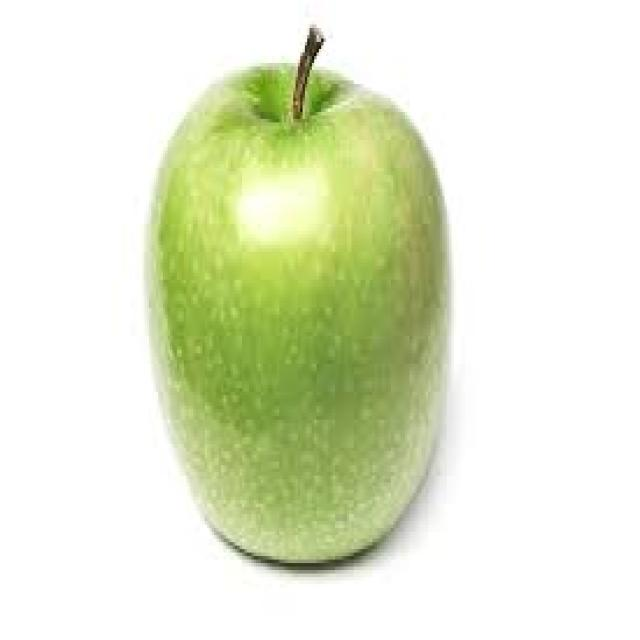apple: (138, 50, 454, 575)
